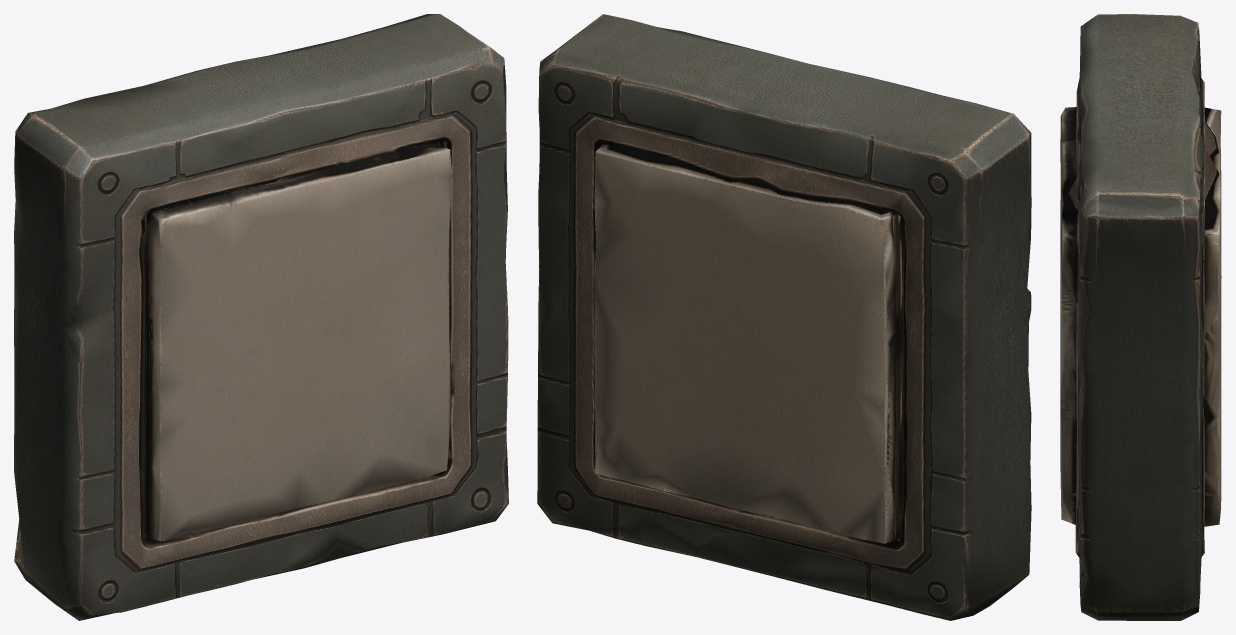
File: Prop_WallSquareButtonPanel.fbx
The picture shows the model from 3 angles, left to right: view 1: azimuth 30°, elevation 25°; view 2: azimuth 150°, elevation 25°; view 3: azimuth 270°, elevation 25°; orthographic projection. The views are drawn at different scales.
Visible parts, largest first — view 1: texture_mapping; view 2: texture_mapping; view 3: texture_mapping.
Part boxes in pixels (box(x1,y1,x2,y2)): texture_mapping: box(14, 14, 508, 620); texture_mapping: box(537, 14, 1031, 620); texture_mapping: box(1060, 14, 1221, 620).
Size of the model in its own units: 0.9795 by 0.3422 by 1.
Materials: 1 (1 with a texture image).
